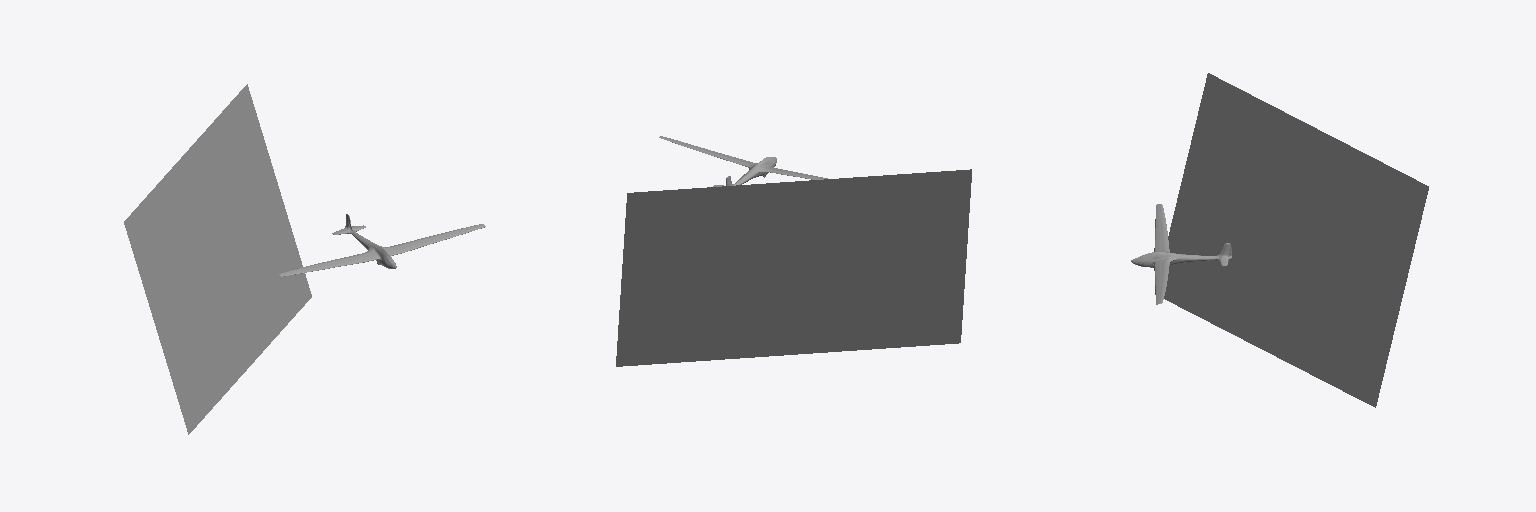
Rendered from simple_airplane.obj.
The picture shows the model from 3 angles: view 1: azimuth 30°, elevation 25°; view 2: azimuth 150°, elevation 25°; view 3: azimuth 270°, elevation 25°; orthographic projection.
Visible parts, largest first — view 1: Plane, Cube_Cube.001; view 2: Plane, Cube_Cube.001; view 3: Plane, Cube_Cube.001.
Boxes of the visible parts, x1=… form: Plane: x1=124, y1=84, x2=311, y2=434; Cube_Cube.001: x1=279, y1=214, x2=485, y2=276; Plane: x1=616, y1=169, x2=971, y2=366; Cube_Cube.001: x1=659, y1=136, x2=827, y2=186; Plane: x1=1155, y1=73, x2=1428, y2=407; Cube_Cube.001: x1=1131, y1=204, x2=1231, y2=304.
Size of the model in its own units: 15.68 by 9.05 by 12.06.